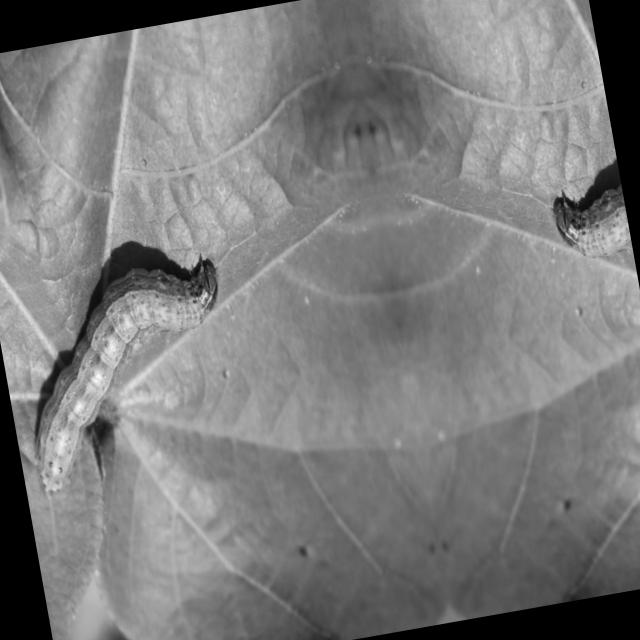Armyworm: (1, 159, 286, 542), (527, 115, 640, 321)
